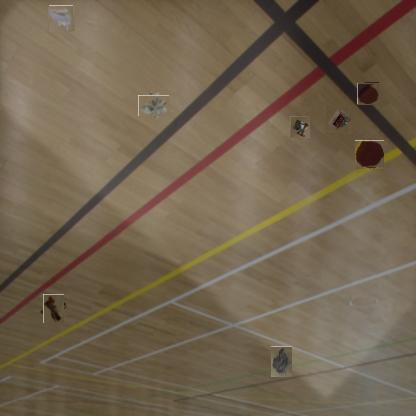dirty: (270, 346, 292, 377), (326, 107, 352, 133), (140, 93, 166, 118), (49, 6, 74, 32), (41, 296, 66, 321), (290, 116, 310, 138)
liquid: (355, 140, 384, 168), (357, 82, 380, 105)
